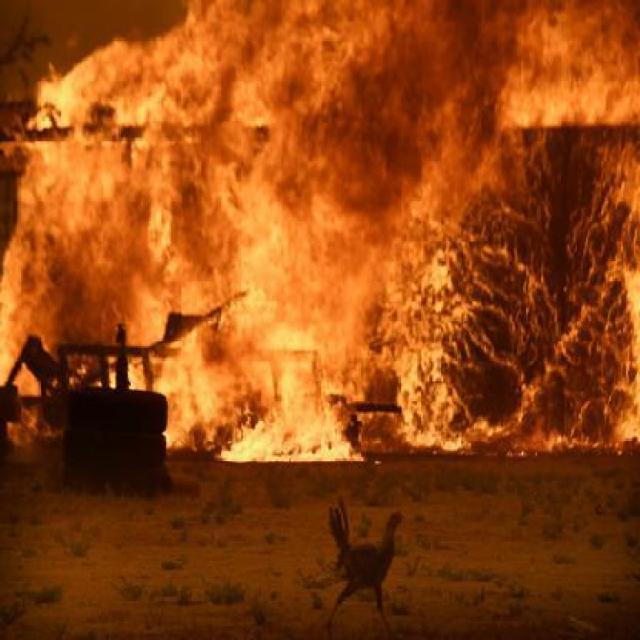Fire: (3, 8, 639, 468)
